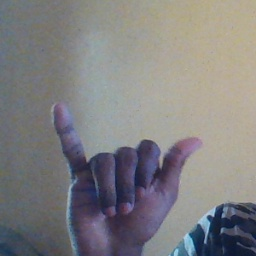J: (47, 100, 203, 244)
